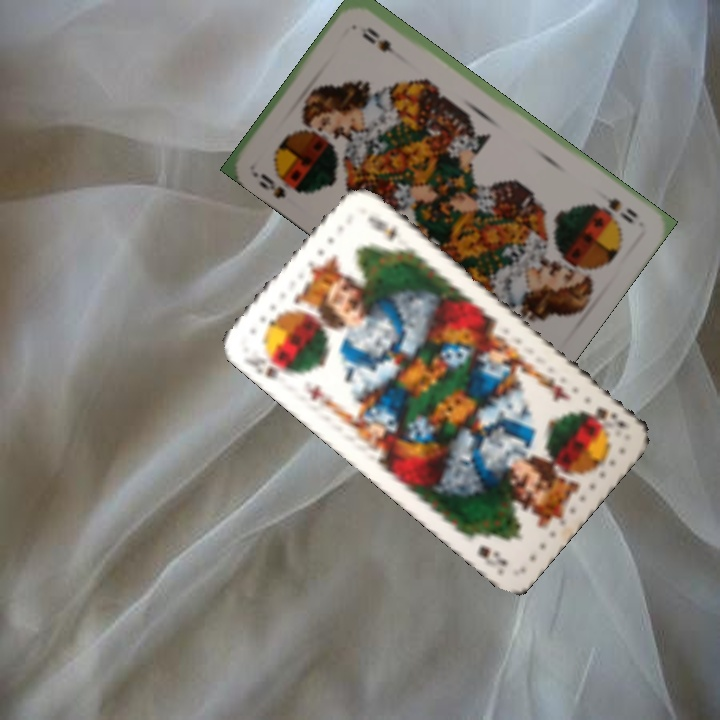SK: (239, 352, 295, 382), (591, 403, 630, 432)
SO: (248, 165, 307, 202), (603, 194, 641, 226)
